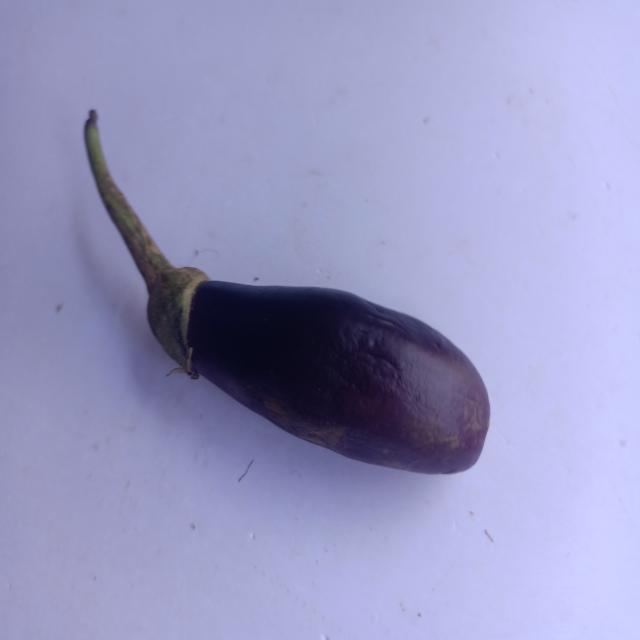Brinjal: (78, 84, 518, 504)
